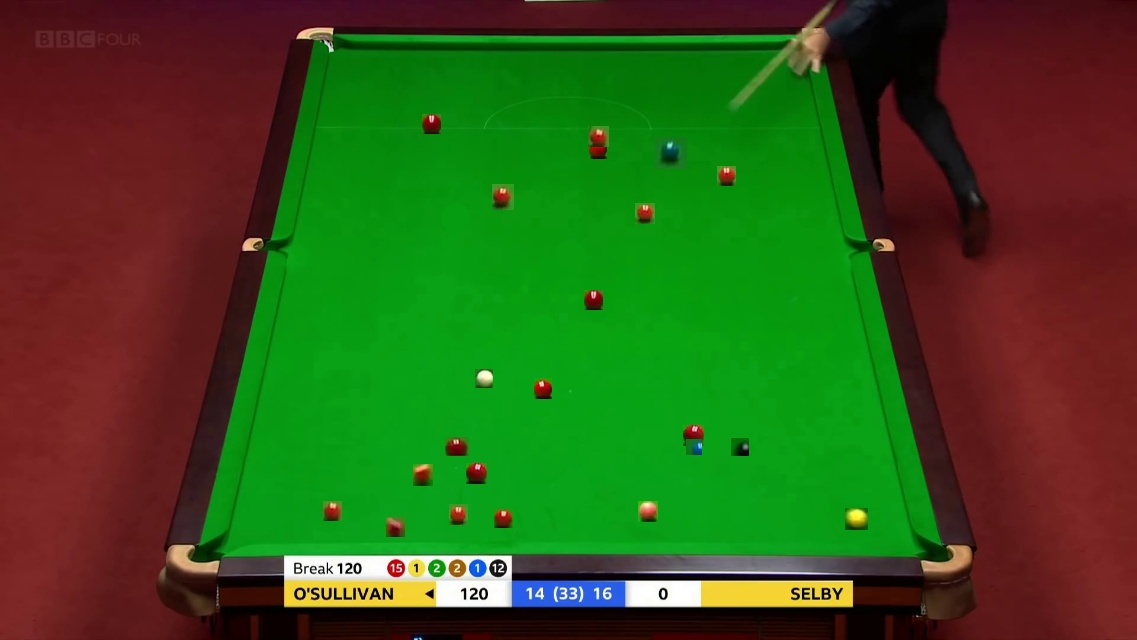black: (731, 438, 749, 456)
blue: (686, 439, 702, 455)
brown: (445, 437, 464, 461)
green: (655, 137, 687, 169)
pink: (638, 501, 659, 521)
red: (492, 184, 518, 206), (466, 463, 487, 484), (683, 425, 704, 446), (588, 126, 609, 147), (413, 464, 435, 484), (635, 203, 656, 223), (449, 504, 470, 523), (717, 166, 737, 185), (386, 517, 406, 536), (323, 501, 343, 520), (422, 114, 442, 133), (584, 290, 604, 309), (589, 138, 610, 156), (534, 378, 555, 396), (494, 509, 513, 528)
white: (475, 369, 494, 387)
yellow: (845, 508, 867, 531)
